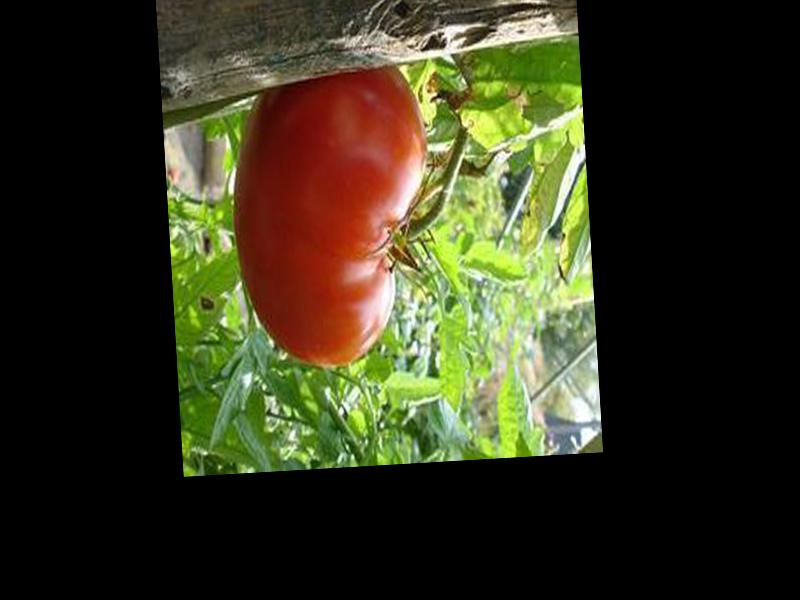Tomato: (227, 59, 439, 372)
